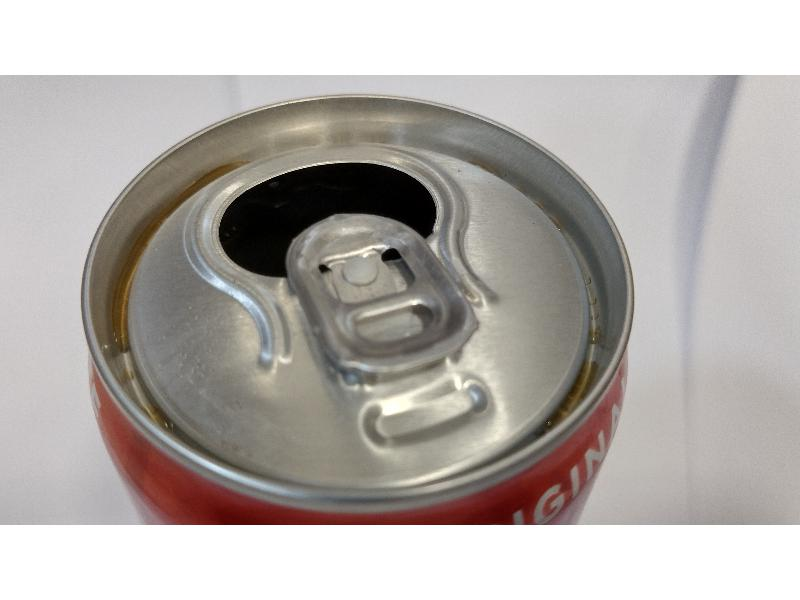can: (79, 90, 633, 524)
